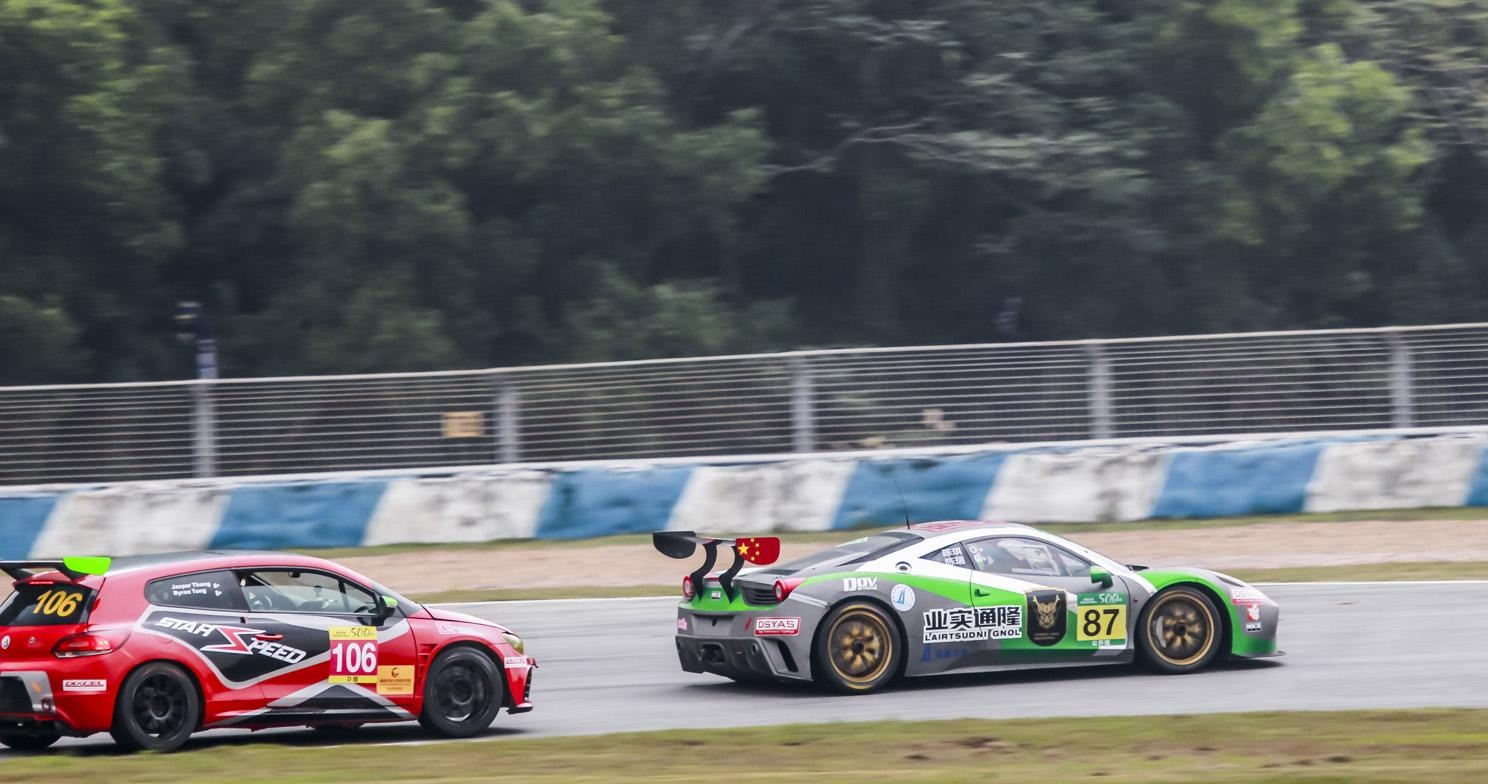racing car: (670, 513, 1296, 707)
